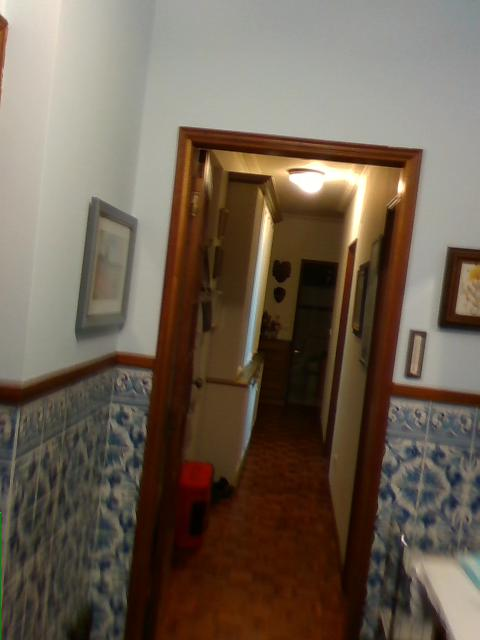door: (286, 259, 337, 372)
